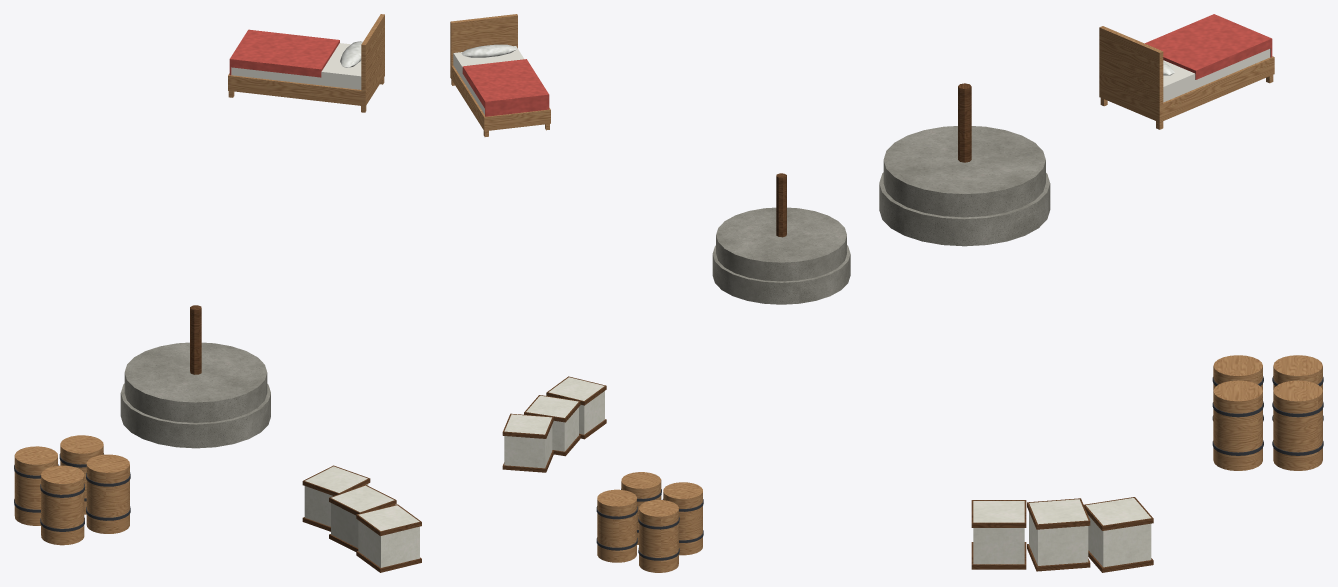
File: i_windmill_dutch.gltf
The picture shows the model from 3 angles, left to right: view 1: azimuth 30°, elevation 25°; view 2: azimuth 150°, elevation 25°; view 3: azimuth 270°, elevation 25°; orthographic projection. The views are drawn at different scales.
Visible parts, largest first — view 1: I_windmill_dutch; view 2: I_windmill_dutch; view 3: I_windmill_dutch.
Boxes of the visible parts, x1,y1,x2,y2 form: I_windmill_dutch: (14,14,421,572); I_windmill_dutch: (450,14,850,572); I_windmill_dutch: (879,14,1323,572).
Size of the model in its own units: 5.23 by 7 by 5.2.
8 materials, 6 textured.
